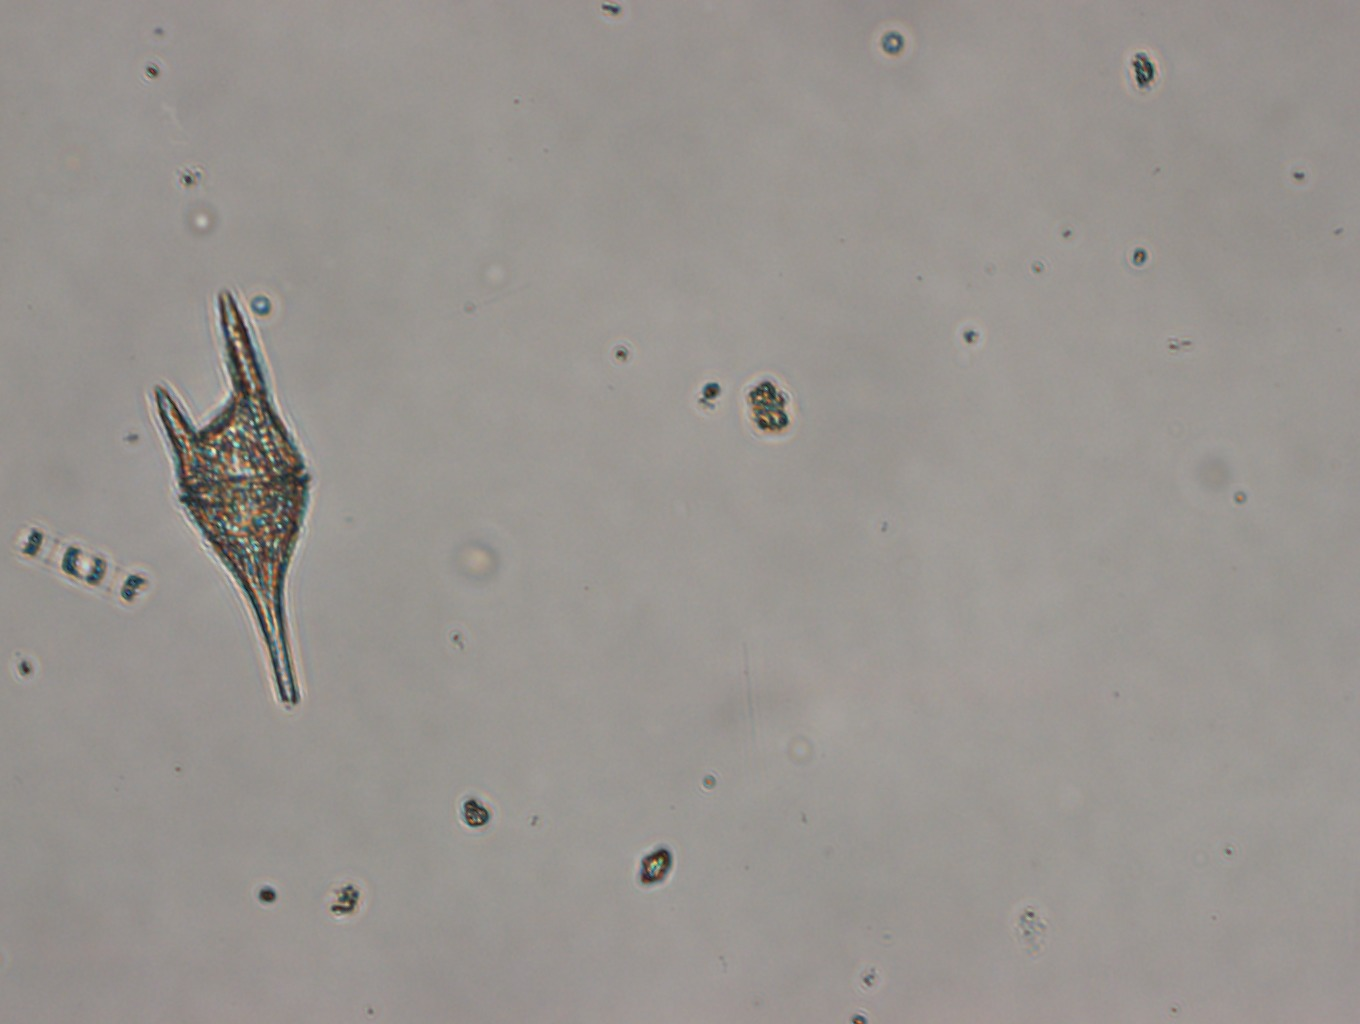ceratium furca: (147, 284, 319, 712)
skeletonema: (15, 525, 151, 608)
